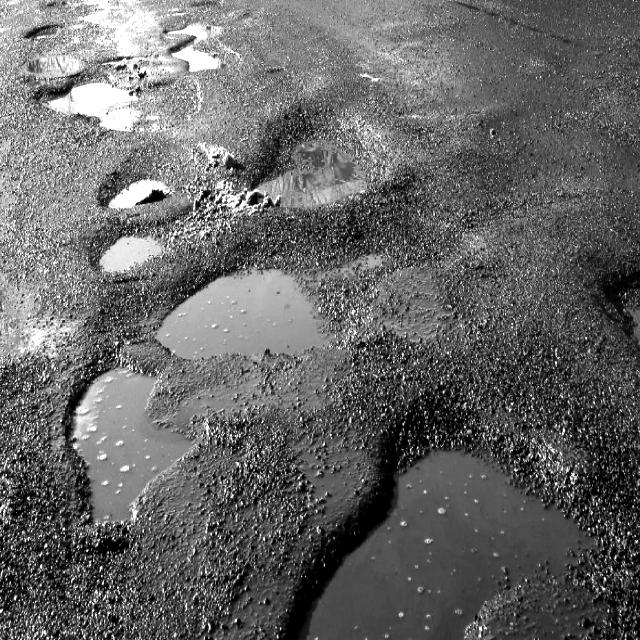pathole: (18, 254, 348, 560), (246, 395, 629, 640), (24, 17, 281, 166), (66, 133, 206, 287), (235, 109, 404, 220)
